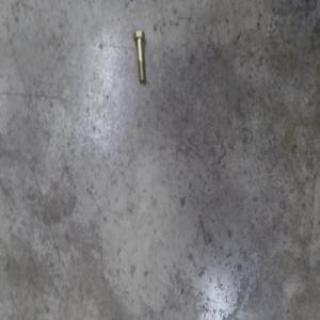Bolttrack_idkeyframe: (133, 31, 147, 83)
